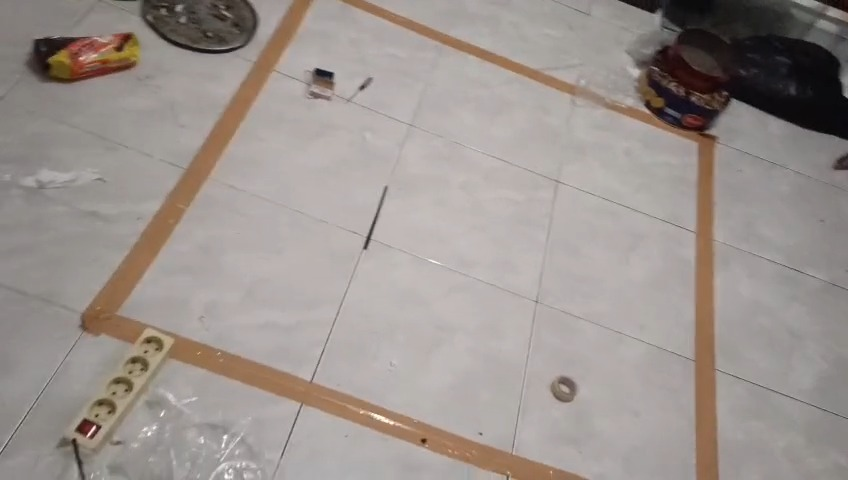floor marking: (83, 0, 311, 342), (165, 333, 586, 479), (605, 102, 717, 461), (344, 0, 577, 94)
